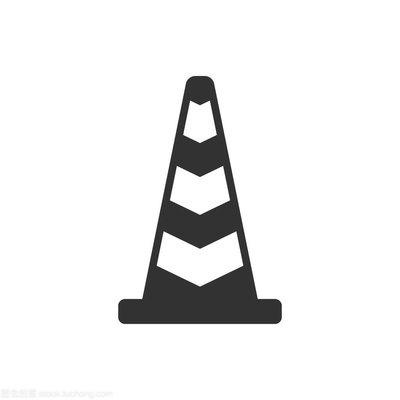cone_barrel: (119, 77, 272, 321)
